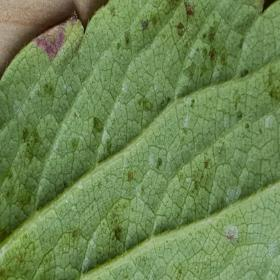Angular Leafspot: (0, 0, 279, 279)
